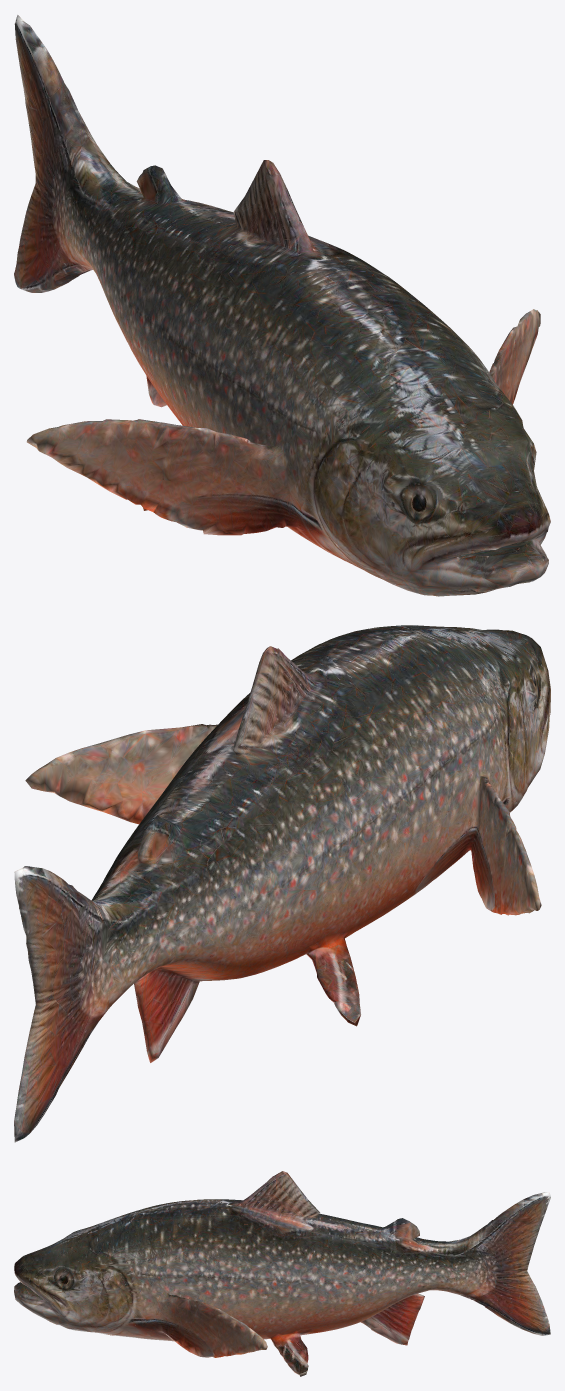
Rendered from fish_char.glb.
3 views of the same model, one above another, from view 1: azimuth 30°, elevation 25°; view 2: azimuth 150°, elevation 25°; view 3: azimuth 270°, elevation 25° (orthographic). The views are drawn at different scales.
Visible parts, largest first — view 1: geometry_0; view 2: geometry_0; view 3: geometry_0.
Part boxes in pixels (x1,y1,x2,y2): geometry_0: [14, 15, 550, 596]; geometry_0: [14, 625, 550, 1142]; geometry_0: [14, 1171, 550, 1376].
Size of the model in its own units: 1.14 by 0.7212 by 1.96.
Materials: 1 (1 with a texture image).
